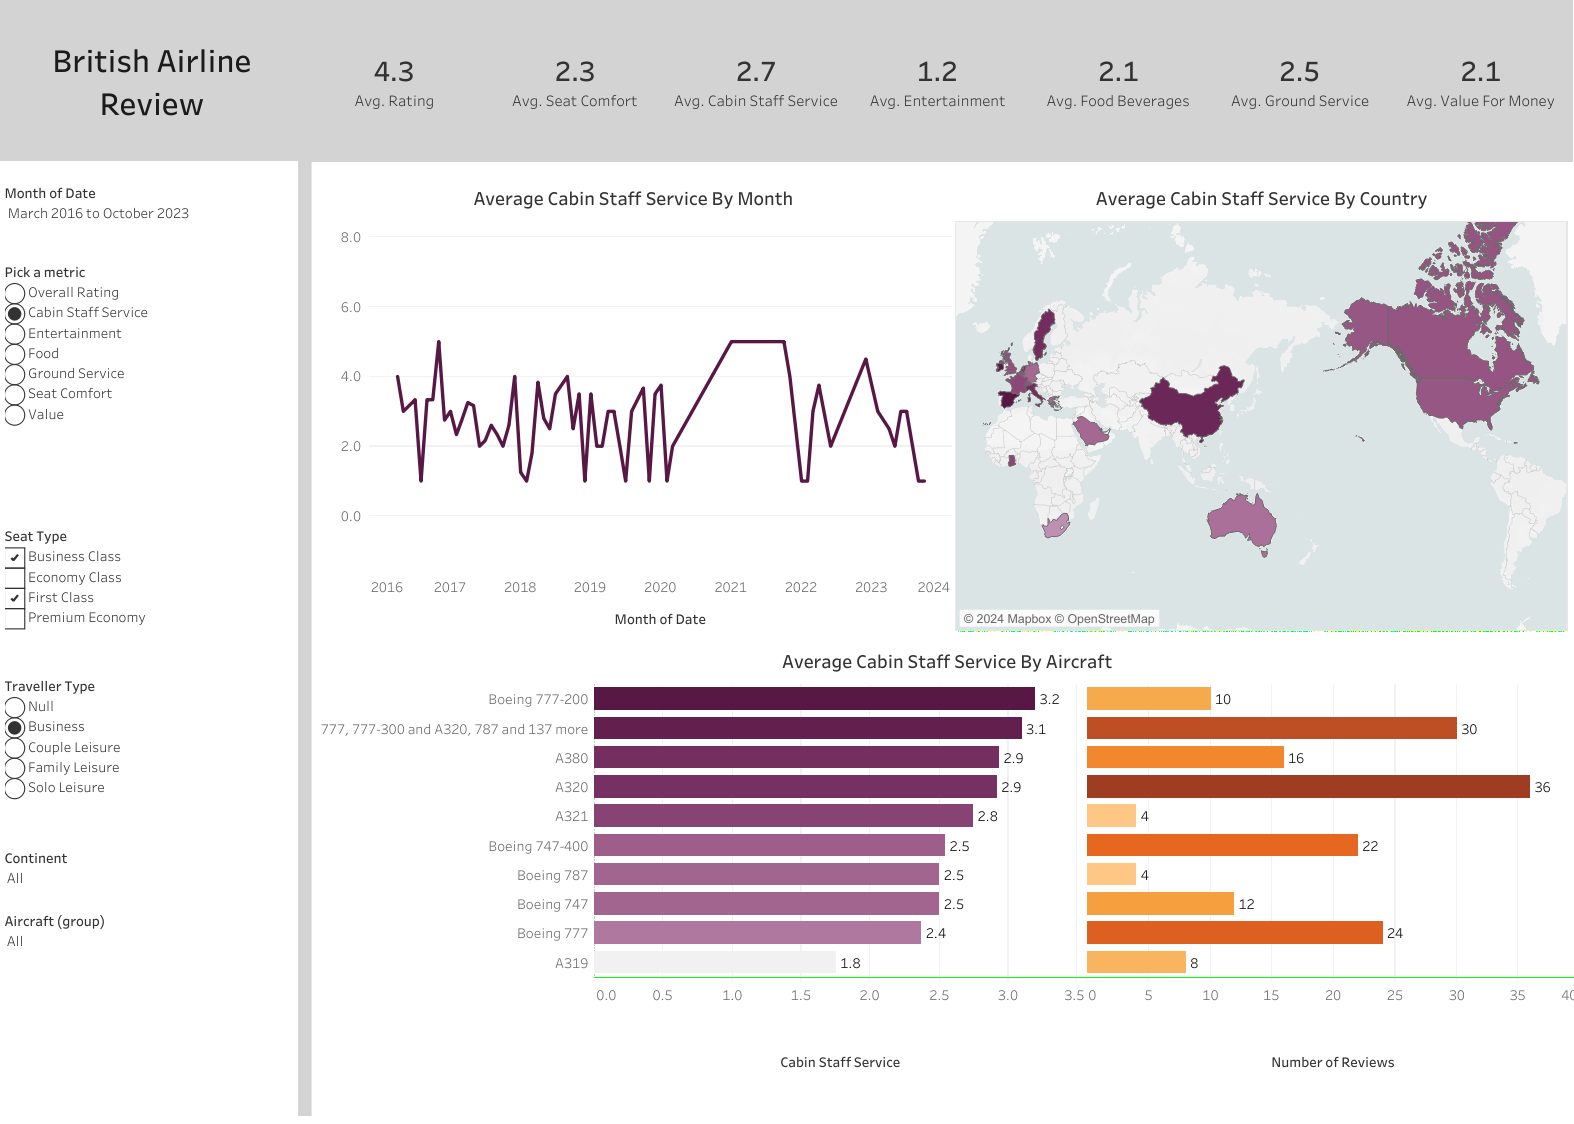

What the dashboard file says about the page in this screenshot:
{"tool":"tableau","page":{"name":"British Airline Review","canvas":[1400,1000],"ordinal":0},"visuals":[{"type":"text","box":[0,0,269.5,142.9]},{"type":"worksheet","title":"Summary","mark":"Automatic","box":[269.5,0,1127,142.9]},{"type":"blank","box":[265.1,141.9,12.1,850.5]},{"type":"filter","title":"Map","param":"[federated.0soa5v30ypxfra10zs4ss1l96ffx].[tmn:date:qk]","box":[0,157.1,266,77]},{"type":"worksheet","title":"Month","mark":"Automatic","rows":["Calculation_1173469194398851073"],"cols":["date"],"box":[280,158.1,566,400.9]},{"type":"worksheet","title":"Map","mark":"Automatic","box":[849,158.1,545,402.9]},{"type":"parameter","param":"[Parameters].[Parameter 1]","box":[0,234.1,266,235]},{"type":"filter","title":"Map","param":"[federated.0soa5v30ypxfra10zs4ss1l96ffx].[none:seat_type:nk]","box":[0,469.1,266,175]},{"type":"worksheet","title":"Aircraft","mark":"Automatic","cols":["Calculation_1173469194398851073","ba_reviews.csv_6810B1AB0CE94EDBBCD51308AF683F45"],"box":[280,570,1124,406]},{"type":"filter","title":"Map","param":"[federated.0soa5v30ypxfra10zs4ss1l96ffx].[none:traveller_type:nk]","box":[0,644.1,266,202]},{"type":"filter","title":"Map","param":"[federated.0soa5v30ypxfra10zs4ss1l96ffx].[none:Continent:nk]","box":[0,846.1,266,70]},{"type":"filter","title":"Map","param":"[federated.0soa5v30ypxfra10zs4ss1l96ffx].[Aircraft (group)]","box":[0,916.1,266,70]}]}

Visuals, with their boxes in screenshot pixels (x1, y1, x2, y2), scaled from the page's 1400x1000 canvas onto the 1574x1124 screenshot:
text: crop(0, 0, 303, 161)
"Summary" worksheet: crop(303, 0, 1570, 161)
blank: crop(298, 159, 312, 1115)
"Map" filter: crop(0, 177, 299, 263)
"Month" worksheet: crop(315, 178, 951, 628)
"Map" worksheet: crop(955, 178, 1567, 631)
parameter: crop(0, 263, 299, 527)
"Map" filter: crop(0, 527, 299, 724)
"Aircraft" worksheet: crop(315, 641, 1573, 1097)
"Map" filter: crop(0, 724, 299, 951)
"Map" filter: crop(0, 951, 299, 1030)
"Map" filter: crop(0, 1030, 299, 1108)
